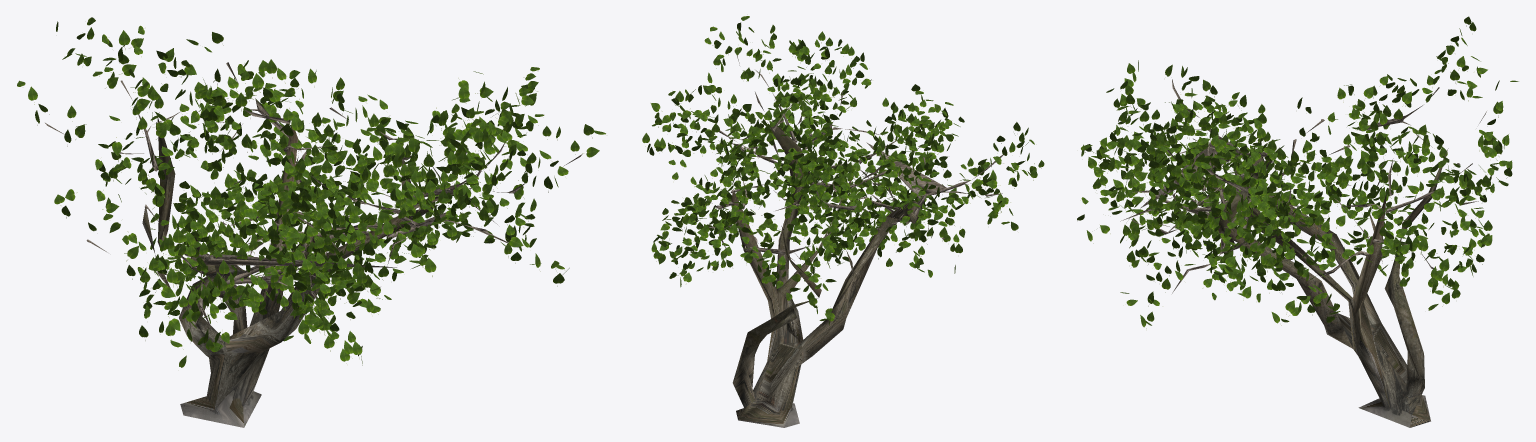
3 views of the same model, side by side, from view 1: azimuth 30°, elevation 25°; view 2: azimuth 150°, elevation 25°; view 3: azimuth 270°, elevation 25° (orthographic). The views are drawn at different scales.
Visible parts, largest first — view 1: island_tree_02-1, island_tree_02-0, island_tree_02-2; view 2: island_tree_02-1, island_tree_02-0, island_tree_02-2; view 3: island_tree_02-1, island_tree_02-0, island_tree_02-2.
Part boxes in pixels (x1=…): island_tree_02-1: x1=17, y1=17, x2=605, y2=367; island_tree_02-0: x1=142, y1=118, x2=471, y2=427; island_tree_02-2: x1=45, y1=62, x2=582, y2=328; island_tree_02-1: x1=642, y1=16, x2=1044, y2=325; island_tree_02-0: x1=731, y1=113, x2=921, y2=427; island_tree_02-2: x1=689, y1=55, x2=1003, y2=260; island_tree_02-1: x1=1077, y1=16, x2=1518, y2=328; island_tree_02-0: x1=1207, y1=147, x2=1448, y2=427; island_tree_02-2: x1=1120, y1=79, x2=1486, y2=293.
Bounding box in the file's own units: 172 × 150 × 178.
3 materials, 3 textured.
